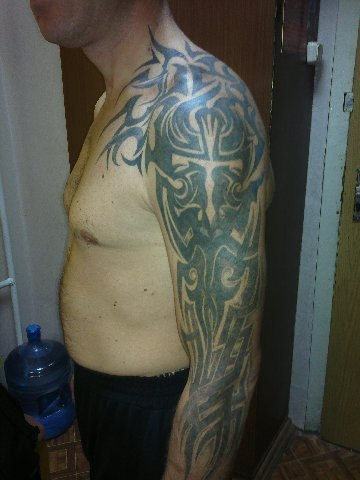tatu9_krest: (166, 106, 262, 230)
